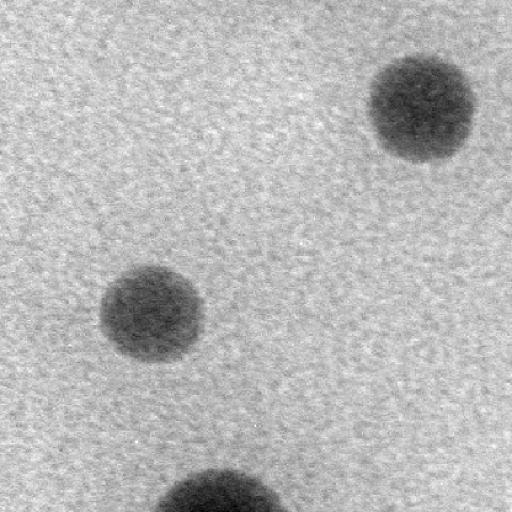Nanoparticles: (367, 56, 473, 162), (101, 265, 206, 362), (163, 467, 280, 512)
